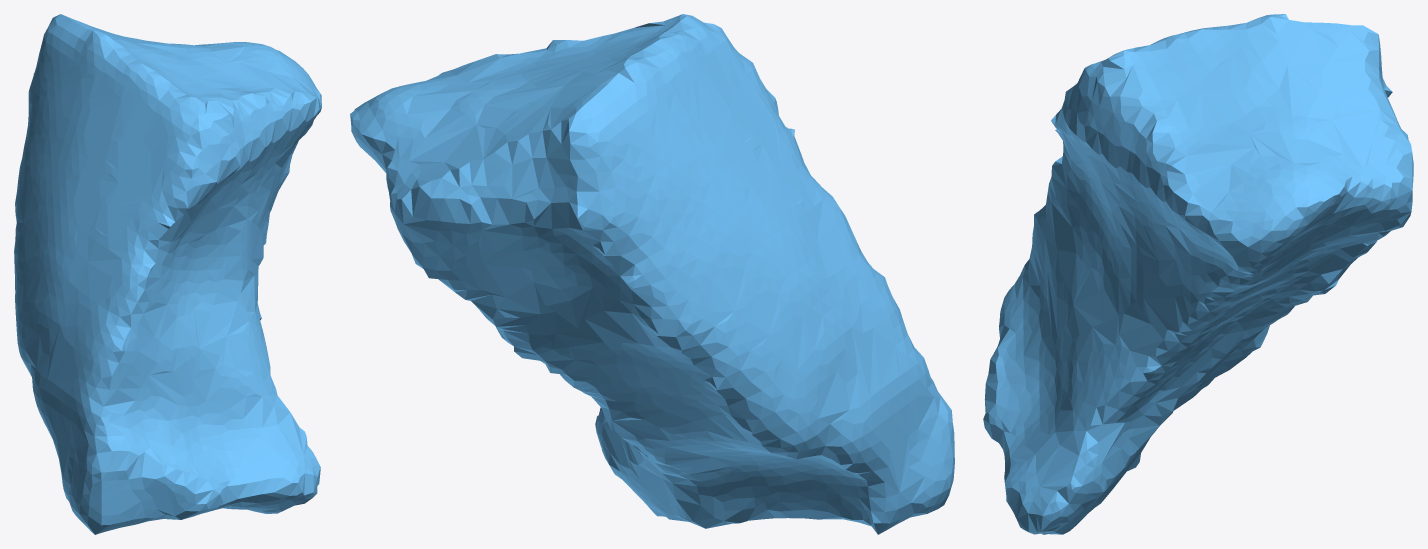
File: Model_123_RH__Secondary_somatosensory_cortex__internal_part_(S2I).obj
The picture shows the model from 3 angles, left to right: view 1: azimuth 30°, elevation 25°; view 2: azimuth 150°, elevation 25°; view 3: azimuth 270°, elevation 25°; orthographic projection. The views are drawn at different scales.
Bounding box in the file's own units: 2.8 × 3.34 × 2.72.
